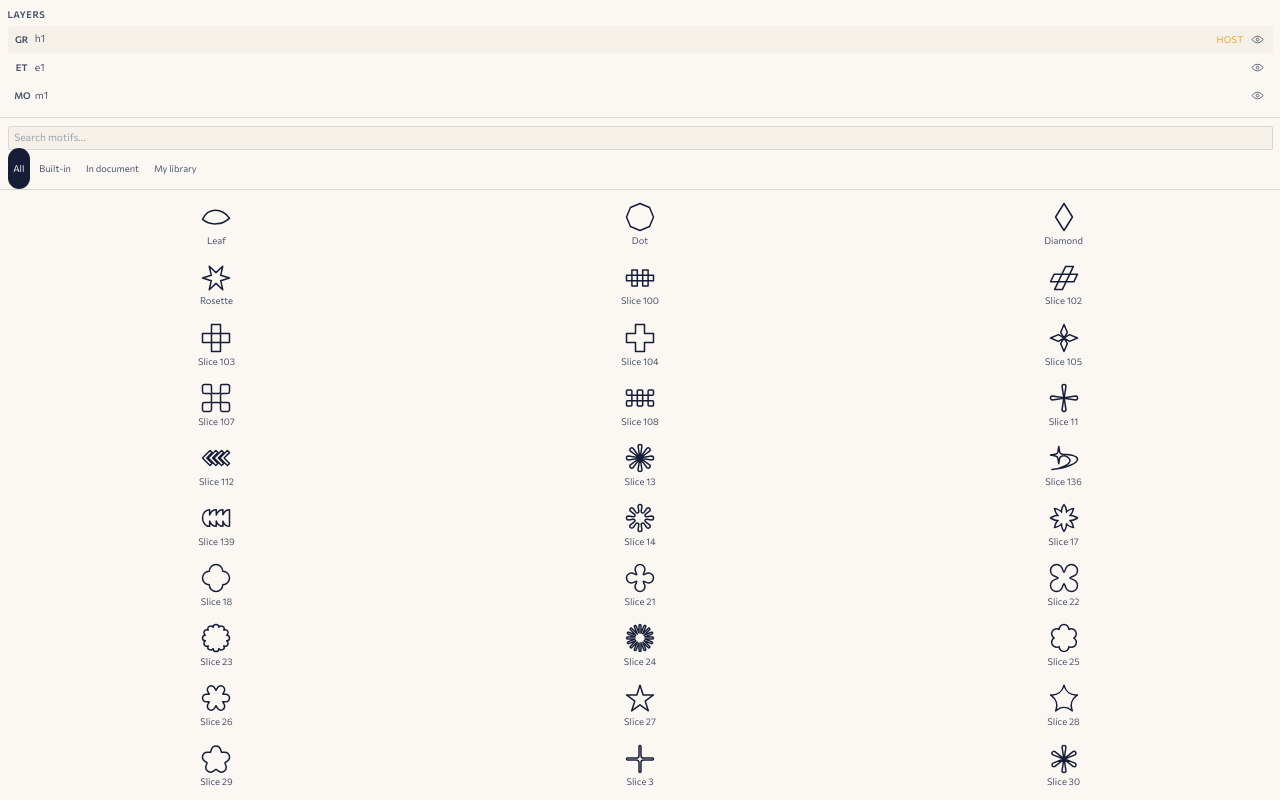
Test: MotifLibraryPanel › surfaces the library load error on the My-library set (audit bug 10)
Click the button "My library" at {"x": 175, "y": 169}, box [148,148,202,189]
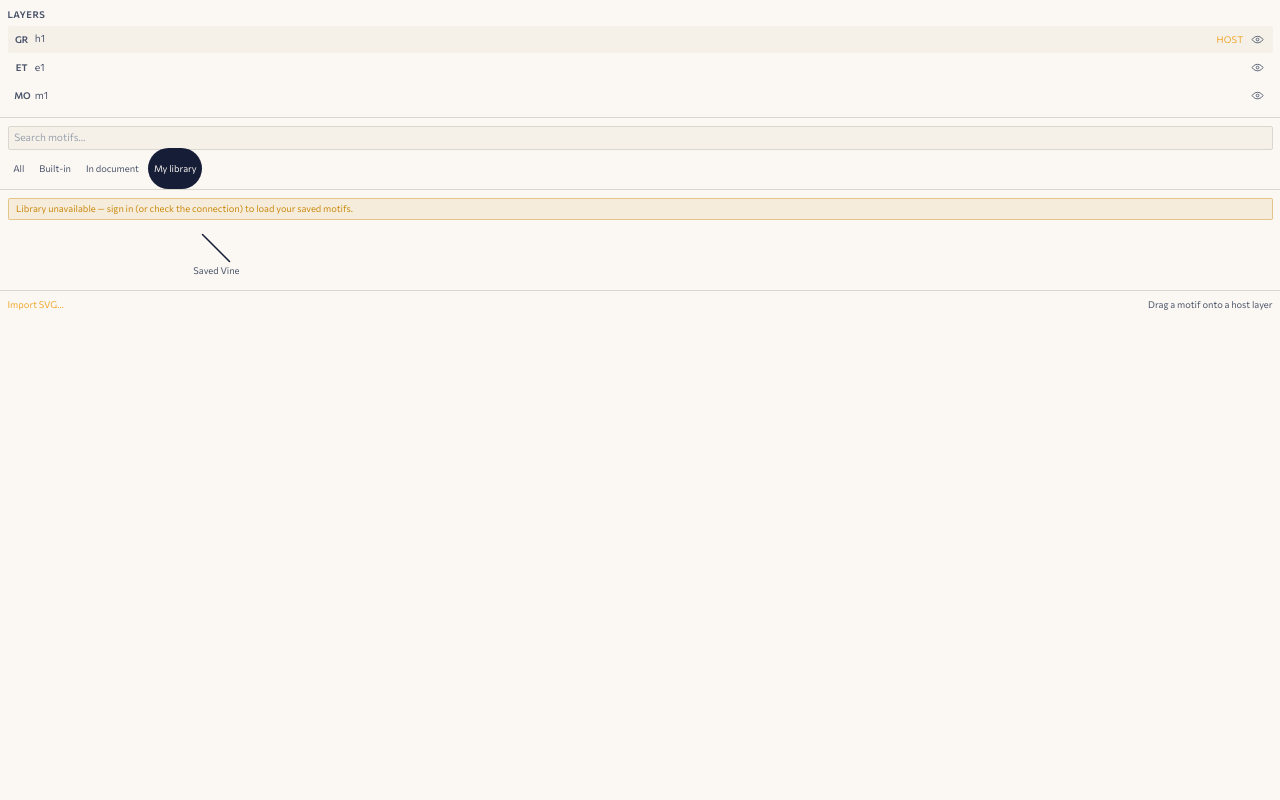
Now the text "Library unavailable" is shown, box [16,202,353,214]
